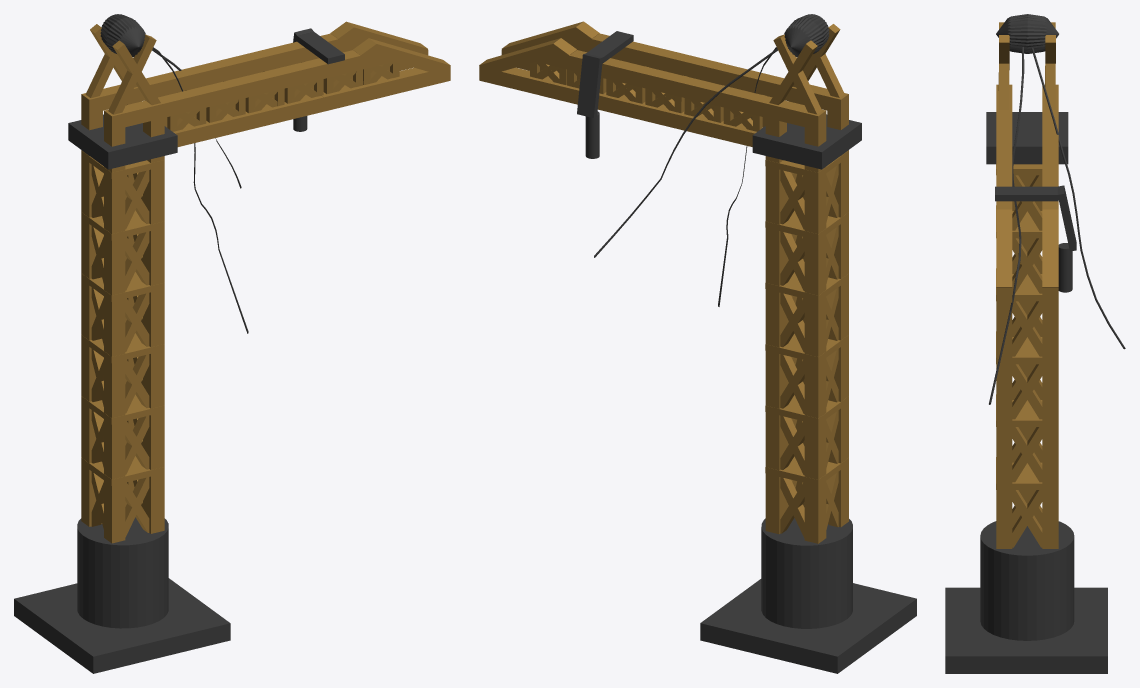
Rendered from original_crane.fbx.
The picture shows the model from 3 angles, left to right: view 1: azimuth 30°, elevation 25°; view 2: azimuth 150°, elevation 25°; view 3: azimuth 270°, elevation 25°; orthographic projection. The views are drawn at different scales.
Parts seen in each view (by area): view 1: Cube.009, Cylinder, Cube, Cube.001, Cube.005, Cube.006, Cube.008, Cube.003, Cube.031, Cube.032, Cube.037, Cube.034 (+9 smaller); view 2: Cube.009, Cylinder, Cube.003, Cube.002, Cube.008, Cube, Cube.024, Cube.005, Cube.031, Cube.032, Cube.034, Cube.037 (+11 smaller); view 3: Cube.009, Cylinder, Cube.002, Cube.001, Cube.031, Cube.032, Cube.034, Cube.033, Cube.035, Cube.037, Cylinder.001, Cube.005 (+14 smaller).
Part boxes in pixels (<box>): Cube.009: <box>14,578,230,673</box>; Cylinder: <box>77,517,168,628</box>; Cube: <box>104,125,125,543</box>; Cube.001: <box>143,118,164,533</box>; Cube.005: <box>104,50,389,130</box>; Cube.006: <box>173,66,450,146</box>; Cube.008: <box>81,32,367,113</box>; Cube.003: <box>81,108,102,526</box>; Cube.031: <box>68,114,177,169</box>; Cube.032: <box>81,456,164,537</box>; Cube.037: <box>81,210,164,290</box>; Cube.034: <box>81,333,164,413</box>; Cube.009: <box>700,579,916,673</box>; Cylinder: <box>761,518,852,628</box>; Cube.003: <box>804,113,826,543</box>; Cube.002: <box>765,103,786,534</box>; Cube.008: <box>540,48,826,130</box>; Cube: <box>827,96,848,527</box>; Cube.024: <box>479,66,756,146</box>; Cube.005: <box>562,32,848,113</box>; Cube.031: <box>752,114,861,169</box>; Cube.032: <box>765,456,848,538</box>; Cube.034: <box>765,333,848,413</box>; Cube.037: <box>765,210,848,290</box>; Cube.009: <box>945,587,1107,673</box>; Cylinder: <box>980,521,1074,640</box>; Cube.002: <box>1042,302,1058,548</box>; Cube.001: <box>996,302,1012,548</box>; Cube.031: <box>986,112,1068,164</box>; Cube.032: <box>996,457,1058,547</box>; Cube.034: <box>996,331,1058,419</box>; Cube.033: <box>996,394,1058,482</box>; Cube.035: <box>996,268,1042,356</box>; Cube.037: <box>996,205,1042,293</box>; Cylinder.001: <box>996,14,1058,53</box>; Cube.005: <box>996,84,1012,208</box>.
Bounding box in the file's own units: 596 × 908 × 237.
